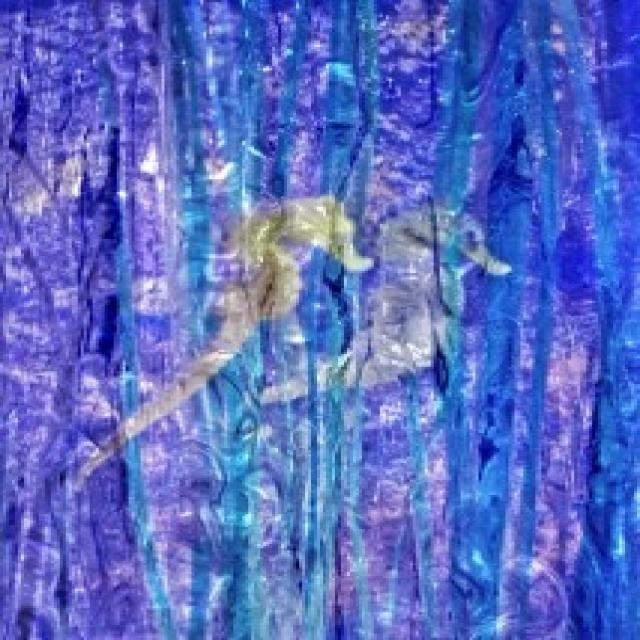Seahorse: (118, 194, 376, 445), (359, 194, 526, 402)
